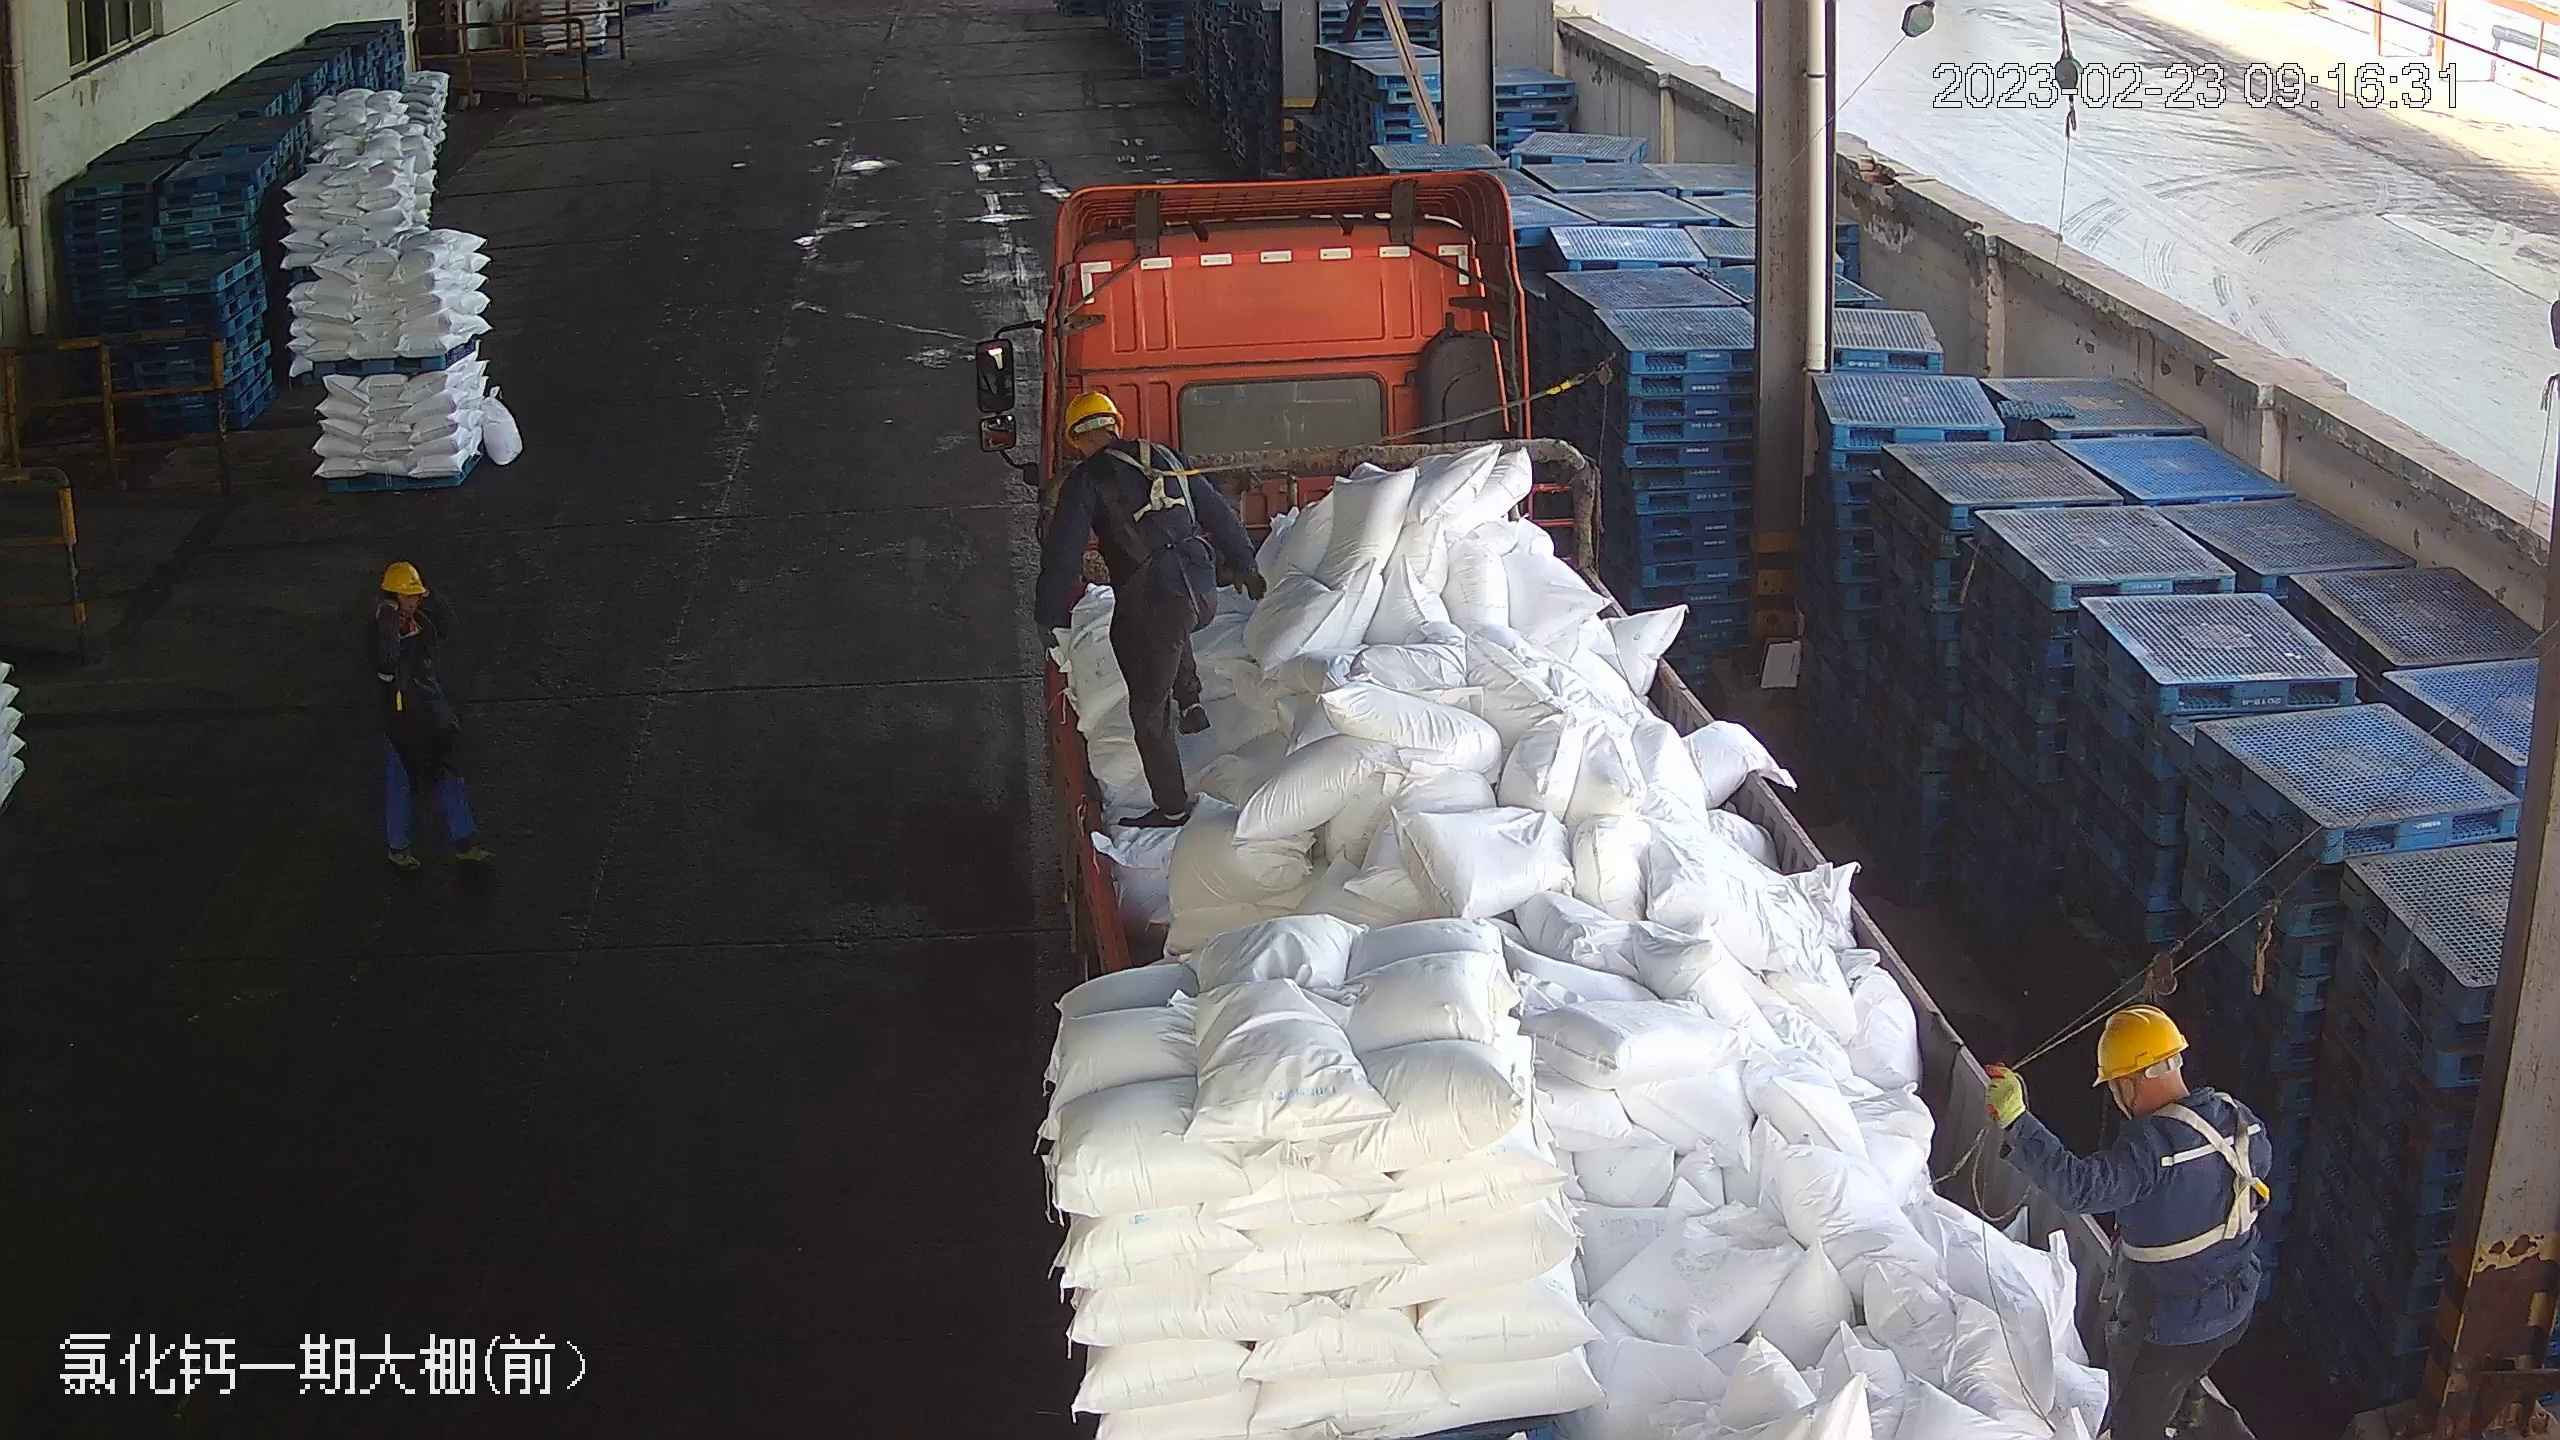belt: (2126, 1102, 2271, 1258), (1107, 440, 1203, 533)
head: (2087, 1002, 2267, 1192), (1055, 388, 1192, 504), (363, 558, 446, 657)
helmet: (2089, 1001, 2192, 1084), (1059, 389, 1121, 440), (377, 559, 430, 597)
people: (1036, 385, 1269, 838), (2042, 1009, 2269, 1438), (358, 552, 506, 868)
truck: (981, 170, 2259, 1437)
